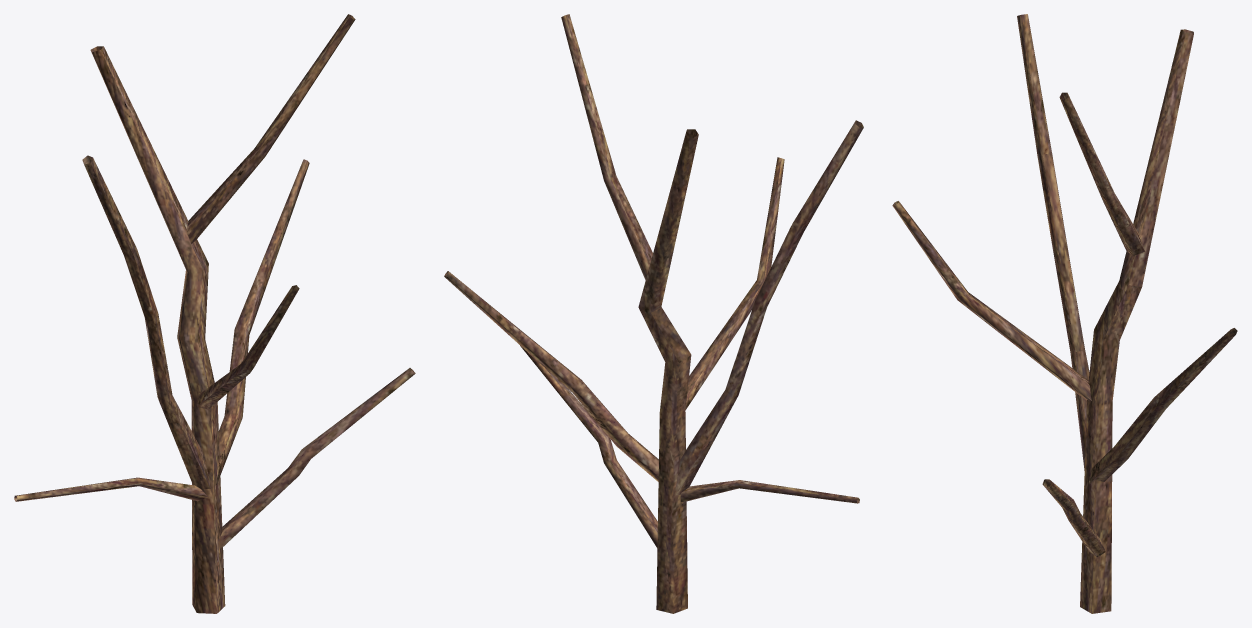
Rendered from acacia_01.glb.
The picture shows the model from 3 angles, left to right: view 1: azimuth 30°, elevation 25°; view 2: azimuth 150°, elevation 25°; view 3: azimuth 270°, elevation 25°; orthographic projection. The views are drawn at different scales.
Size of the model in its own units: 6.49 by 9.47 by 5.15.
1 material, 1 textured.
